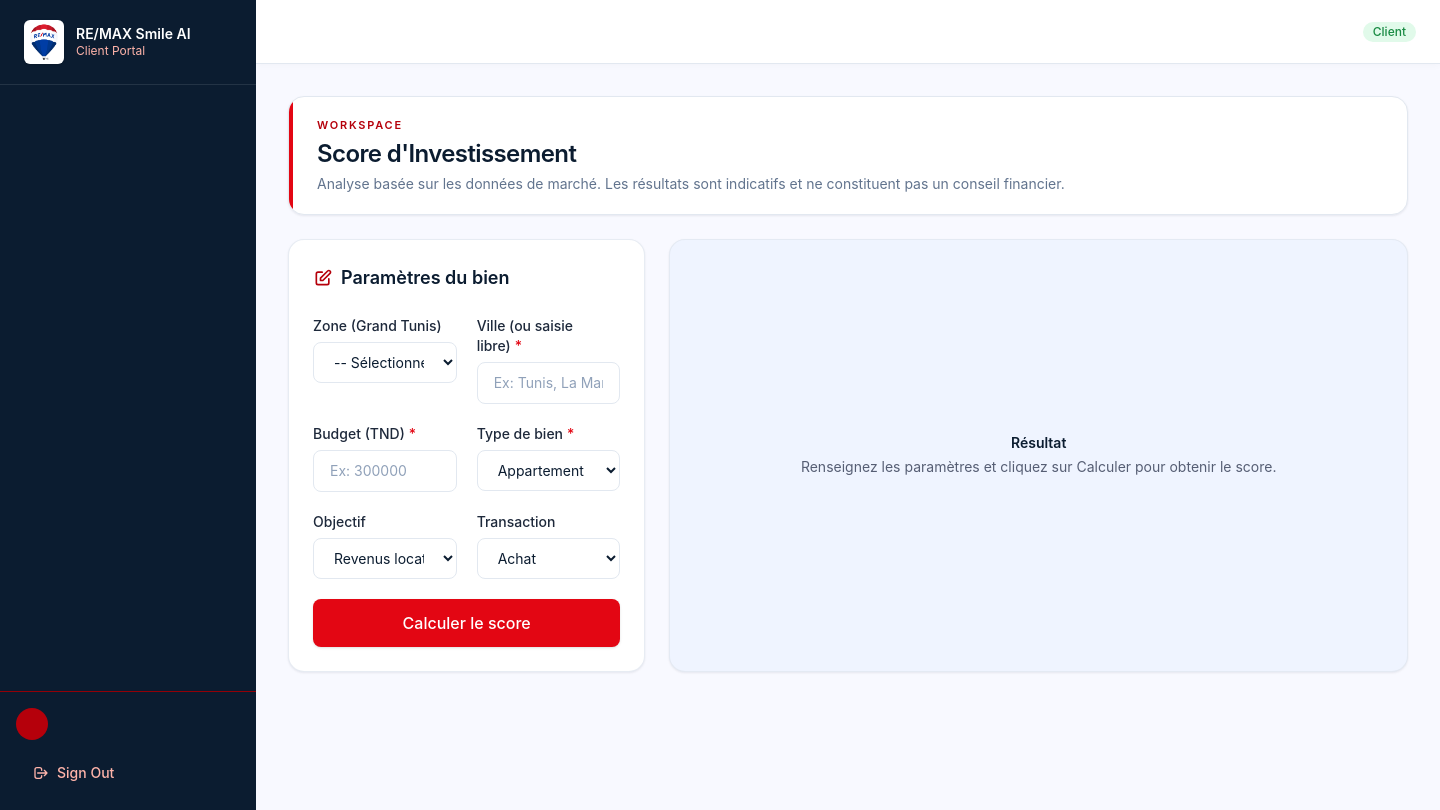
Scenario: InvestmentScorePage › renders score breakdown and risks
Type "Tunis" into the field labelled "Ville" at (549,382), box left=477, top=362, right=620, bottom=404
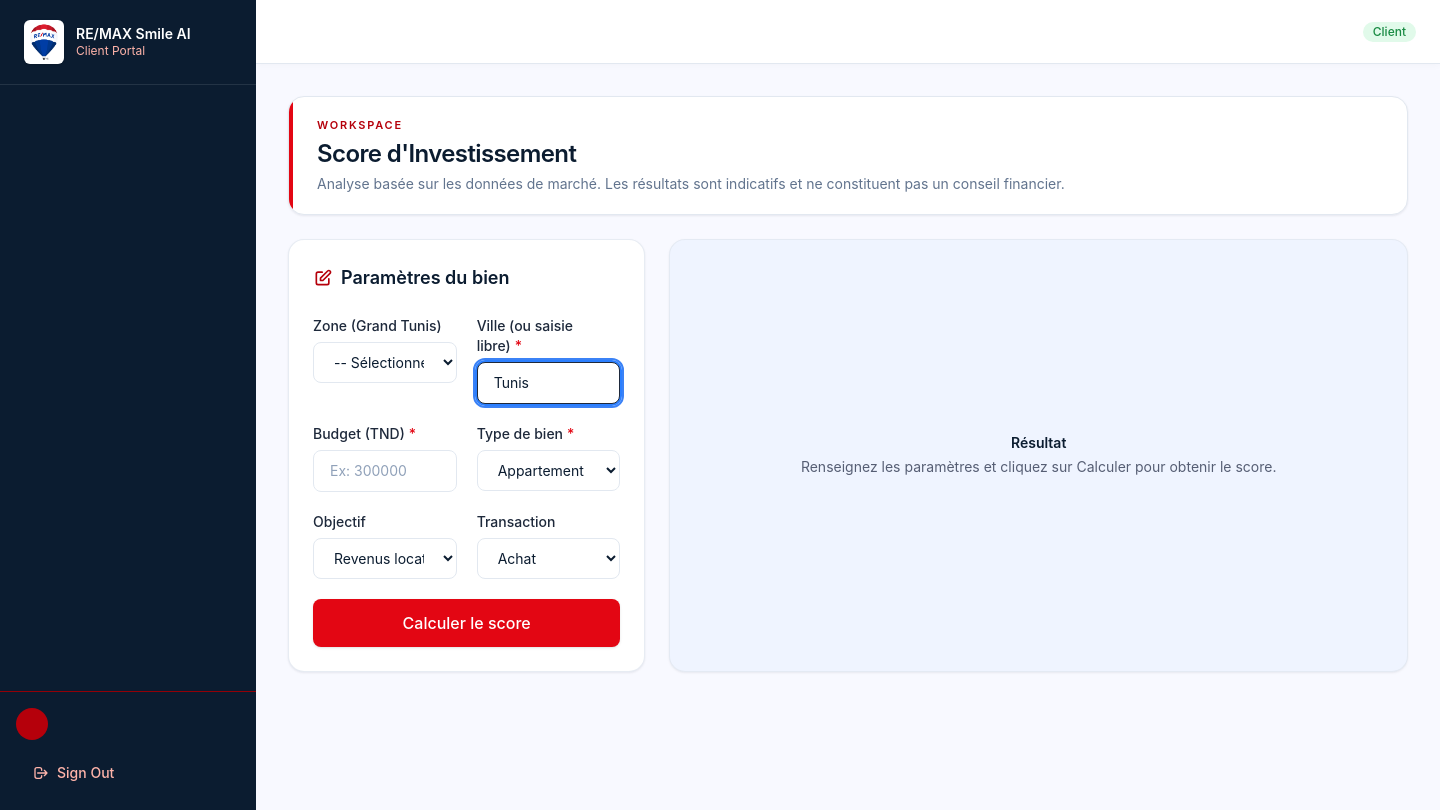
Type "300000" into the number field named "Budget en TND" at (385,470), box left=313, top=450, right=457, bottom=492
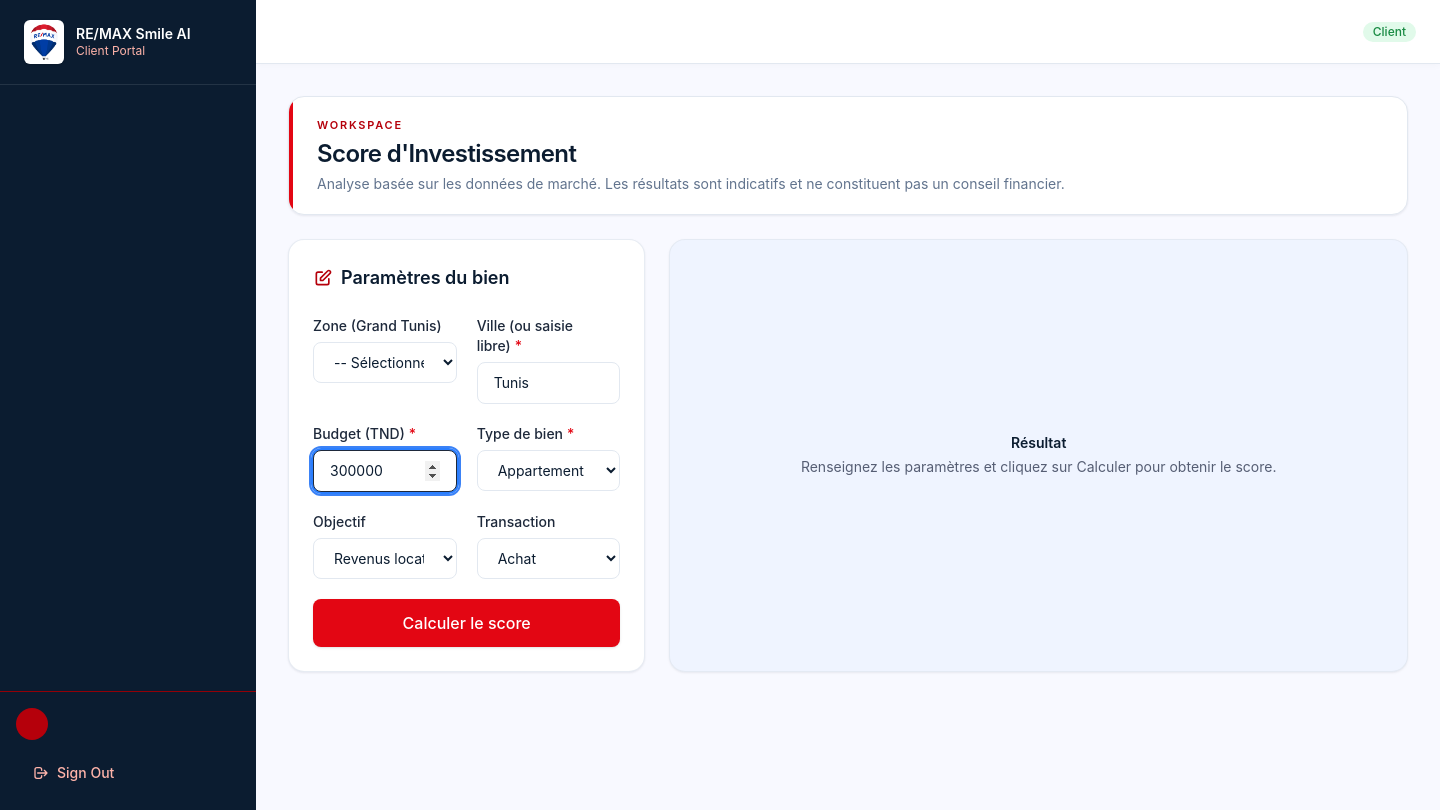
Click the button "Calculer le score" at (467,622), box left=313, top=598, right=620, bottom=646
(page scrolled)
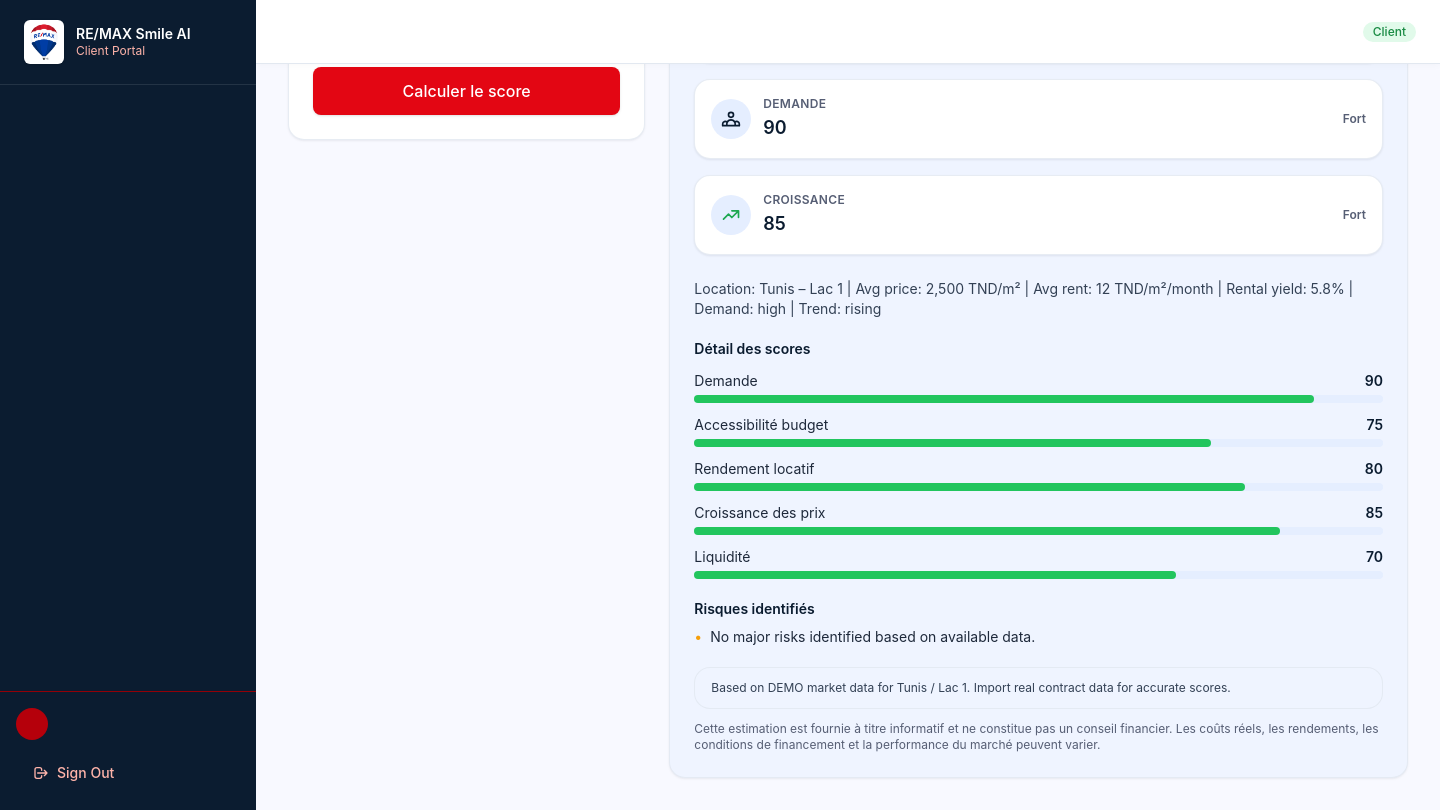
Now the heading "Détail des scores" is shown, box left=694, top=340, right=810, bottom=356
Now the heading "Risques identifiés" is shown, box left=694, top=600, right=815, bottom=616
Now the list item "No major risks identified based on available data." is shown, box left=710, top=628, right=1035, bottom=644
